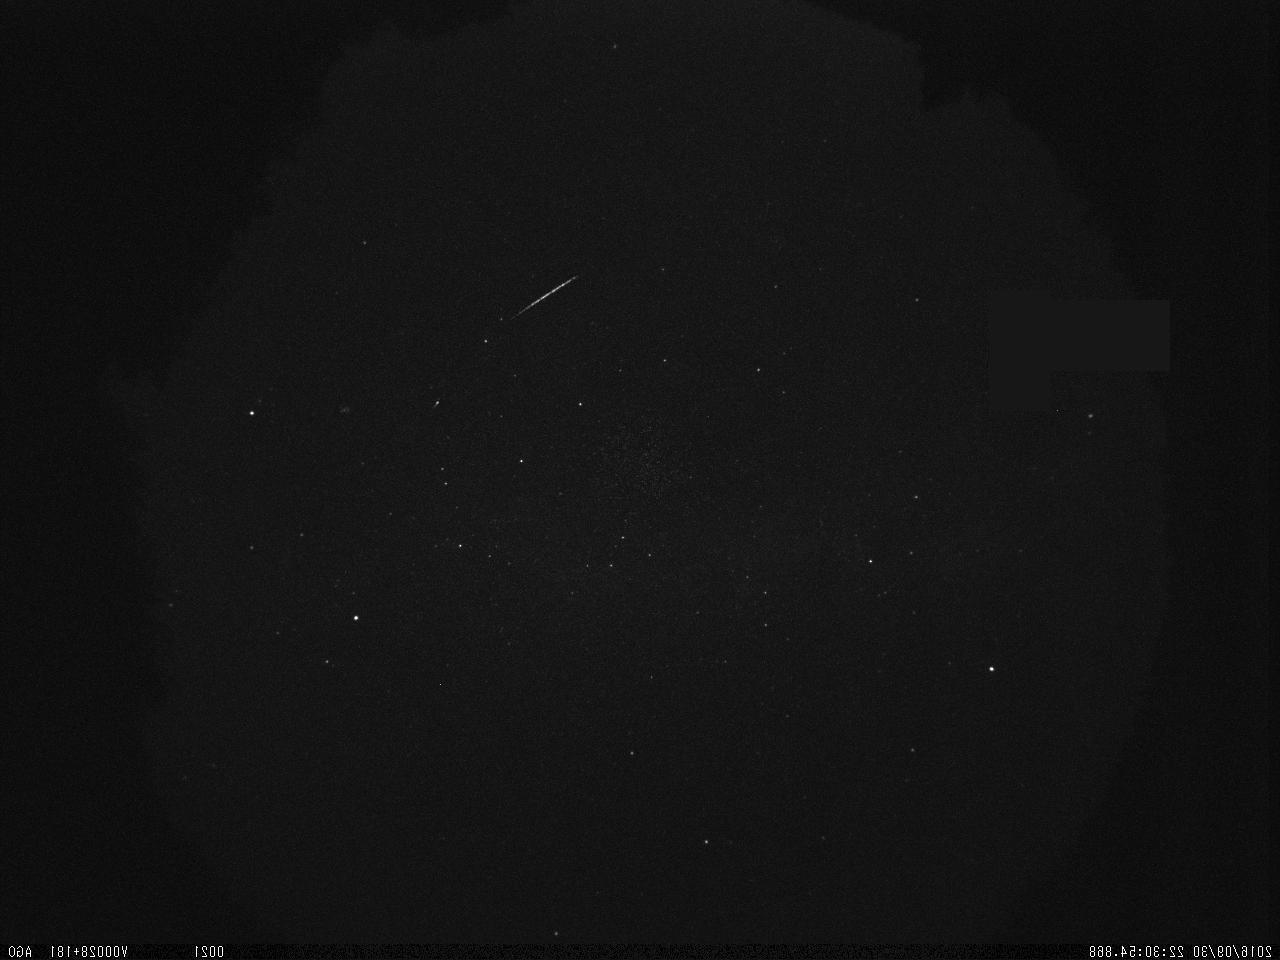meteor: (512, 269, 586, 313)
